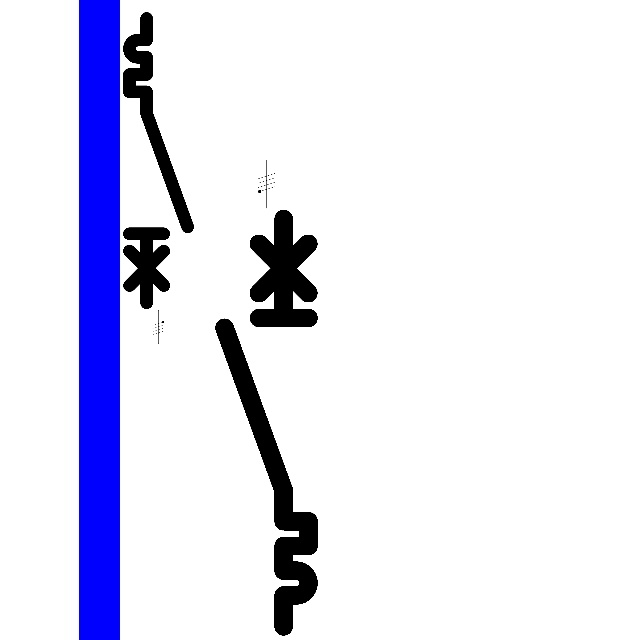interruptor_termomagnetico: (214, 208, 319, 637), (122, 11, 195, 310)
